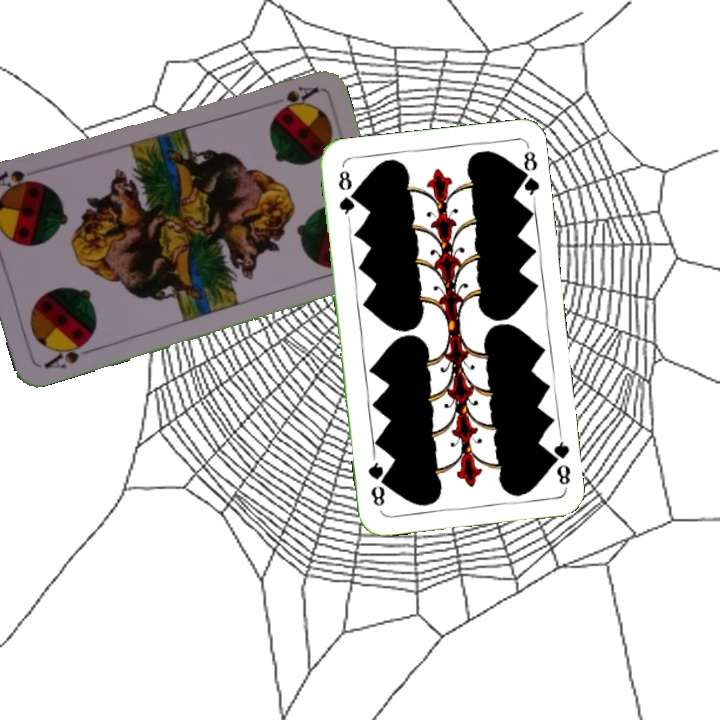G8: (544, 431, 573, 490), (334, 166, 357, 222)
SA: (40, 335, 96, 372), (275, 81, 321, 112)
